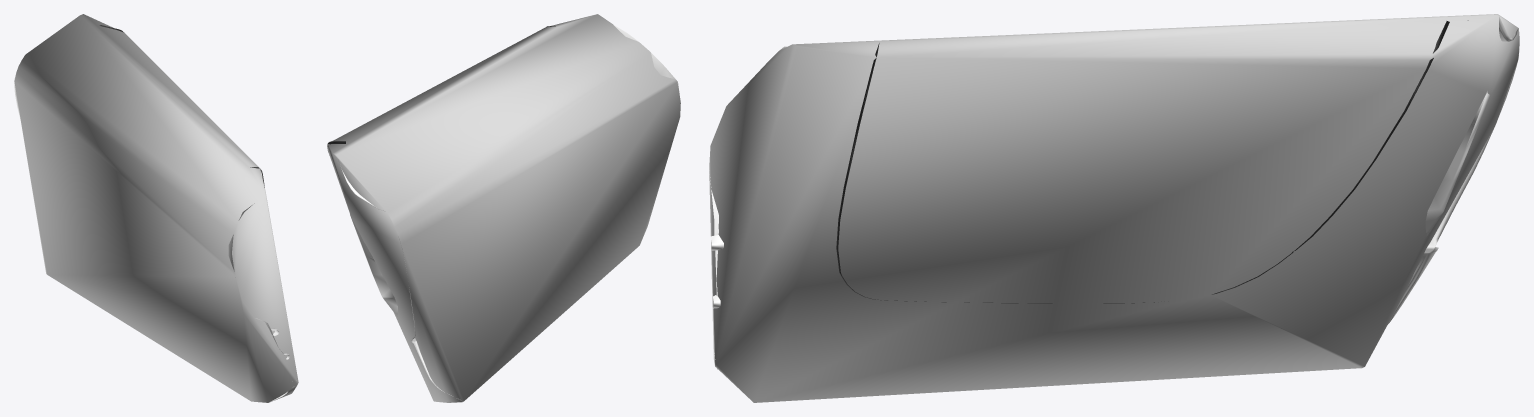
3 renders of one model, left to right at view 1: azimuth 30°, elevation 25°; view 2: azimuth 150°, elevation 25°; view 3: azimuth 270°, elevation 25°, orthographic. The views are drawn at different scales.
Visible parts, largest first — view 1: panel_eclipse_door_l_01_col, panel_eclipse_door_l_01; view 2: panel_eclipse_door_l_01_col, panel_eclipse_door_l_01; view 3: panel_eclipse_door_l_01_col, panel_eclipse_door_l_01.
Part boxes in pixels (x1,y1,x2,y2): panel_eclipse_door_l_01_col: (14,14,298,402); panel_eclipse_door_l_01: (14,25,289,401); panel_eclipse_door_l_01_col: (327,14,680,402); panel_eclipse_door_l_01: (328,24,675,395); panel_eclipse_door_l_01_col: (709,14,1519,402); panel_eclipse_door_l_01: (710,16,1519,369).
Bounding box in the file's own units: 0.3411 × 0.7504 × 1.41.
Materials: 3 (3 with a texture image).
